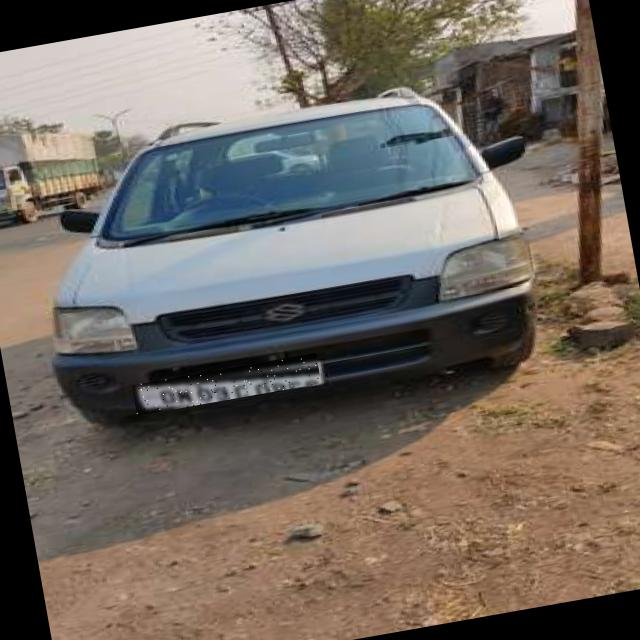Plate: (132, 354, 322, 417)
